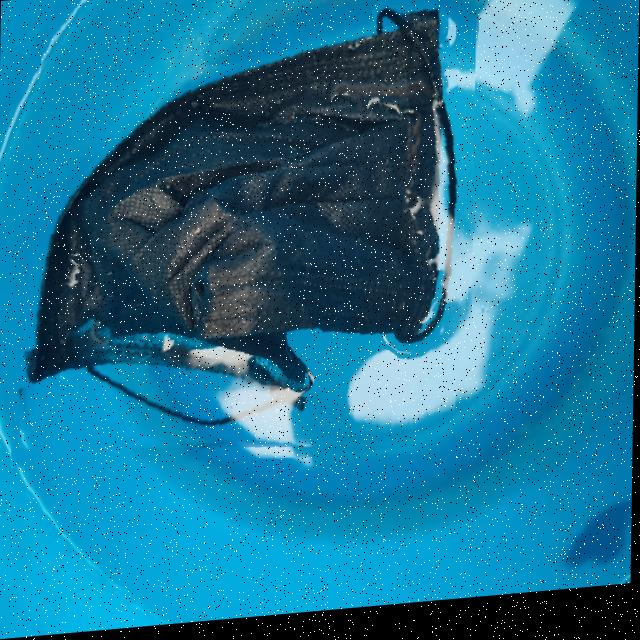mask: (18, 0, 476, 485)
